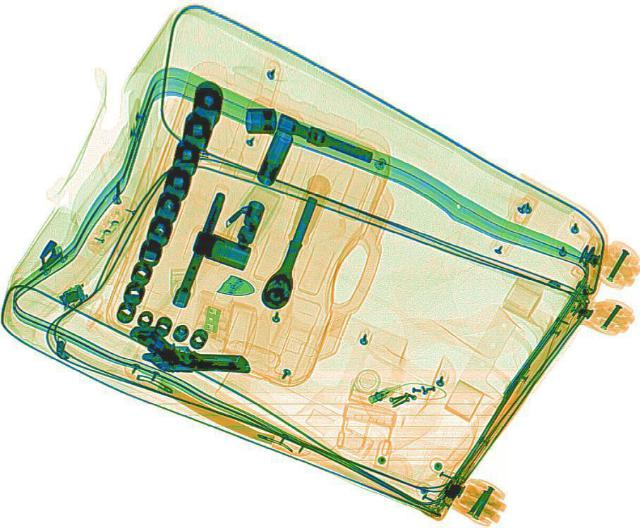Gun: (128, 320, 250, 375)
